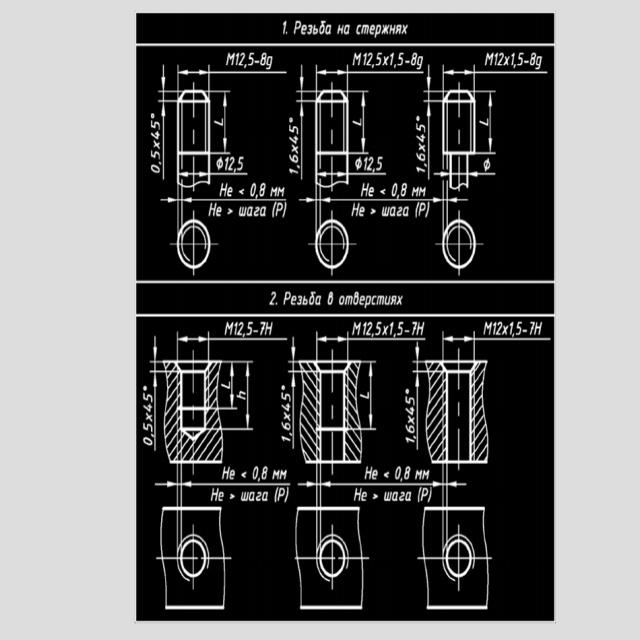marking_line: (424, 64, 548, 90), (157, 66, 288, 90), (319, 465, 442, 487), (180, 465, 292, 488), (176, 336, 286, 358), (223, 358, 255, 432), (295, 64, 314, 181), (346, 64, 424, 91), (207, 65, 289, 88), (181, 187, 291, 203), (425, 64, 440, 181), (442, 329, 552, 344), (157, 100, 177, 182), (295, 100, 314, 181), (423, 100, 441, 182), (316, 332, 426, 345), (477, 88, 498, 156), (321, 193, 443, 204), (350, 90, 370, 155), (212, 87, 230, 156), (149, 368, 162, 453), (362, 359, 377, 431), (412, 370, 425, 451), (441, 330, 476, 359), (439, 64, 476, 91), (315, 330, 349, 359), (315, 63, 349, 91), (176, 332, 210, 360), (176, 65, 211, 90), (288, 370, 298, 449), (223, 360, 238, 411), (154, 465, 178, 491), (296, 64, 316, 93), (422, 64, 442, 93), (158, 64, 177, 94), (446, 465, 466, 489), (299, 180, 318, 203), (159, 186, 179, 204), (149, 334, 161, 364), (287, 337, 299, 363), (413, 343, 423, 364), (179, 171, 208, 178), (318, 171, 346, 178), (470, 171, 495, 178), (449, 195, 468, 204), (432, 169, 449, 178)
numeric: (418, 201, 427, 218), (236, 155, 244, 172), (394, 465, 402, 481), (420, 486, 428, 502), (397, 321, 405, 337), (258, 181, 266, 197), (400, 181, 408, 197), (270, 289, 277, 307), (403, 465, 411, 480), (252, 465, 260, 479), (249, 183, 257, 197), (376, 155, 383, 171), (376, 51, 383, 67), (143, 392, 153, 403), (142, 437, 153, 447), (150, 120, 161, 130), (150, 149, 161, 159), (288, 124, 299, 134), (281, 392, 291, 403), (375, 321, 382, 336), (496, 320, 503, 335), (247, 321, 254, 336), (228, 156, 235, 171), (411, 51, 418, 66), (397, 51, 404, 66), (367, 51, 374, 66), (143, 422, 153, 432), (405, 424, 415, 434), (406, 406, 416, 416), (151, 130, 161, 140), (281, 402, 291, 412), (142, 403, 153, 412), (280, 421, 291, 430), (280, 435, 291, 444), (239, 52, 246, 66), (260, 52, 267, 66), (366, 322, 373, 335), (261, 465, 267, 480), (406, 396, 416, 405), (412, 321, 418, 336), (516, 321, 522, 336), (529, 320, 535, 335), (238, 321, 244, 336), (248, 52, 254, 67), (150, 165, 160, 174), (367, 156, 373, 171), (416, 123, 425, 133), (497, 51, 503, 66), (518, 52, 524, 67), (289, 155, 300, 163), (415, 153, 426, 161), (414, 167, 425, 175), (392, 183, 398, 197), (290, 136, 299, 145), (415, 134, 425, 142), (530, 52, 536, 65), (260, 321, 265, 336), (363, 156, 368, 171), (389, 322, 394, 336), (509, 322, 514, 336), (289, 168, 299, 175), (405, 437, 415, 443), (511, 53, 516, 65), (390, 51, 394, 66), (363, 321, 367, 335), (493, 321, 497, 335), (234, 321, 238, 335), (224, 157, 228, 171), (235, 52, 239, 66), (494, 51, 498, 65), (282, 21, 286, 35), (363, 53, 367, 65)
special_symbol: (483, 158, 491, 173), (355, 155, 362, 172), (217, 156, 223, 171), (425, 201, 430, 218), (382, 324, 388, 337), (407, 415, 415, 424), (241, 470, 248, 480), (419, 142, 426, 152), (415, 202, 419, 219), (502, 324, 508, 335), (384, 469, 389, 479), (226, 208, 234, 214), (372, 493, 378, 499), (380, 189, 386, 195), (370, 208, 376, 214), (151, 112, 156, 119), (415, 115, 420, 122), (230, 493, 234, 501), (239, 189, 244, 195), (289, 117, 294, 123), (405, 388, 409, 395), (143, 385, 147, 391), (522, 329, 528, 333), (281, 384, 285, 390), (150, 433, 154, 438), (255, 60, 260, 64)
